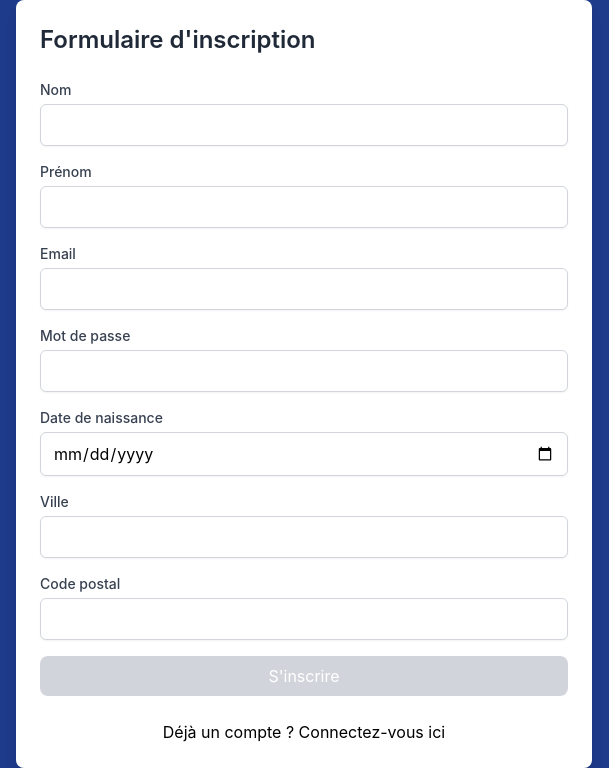
Test: UserForm › should enable submit button when form is complete
Check: the button "S'inscrire" is disabled, box x1=40 y1=656 x2=568 y2=696
Type "Doe" into the field labelled "Nom" at (304, 125), box x1=40 y1=104 x2=568 y2=146
Type "John" into the field labelled "Prénom" at (304, 207), box x1=40 y1=186 x2=568 y2=228
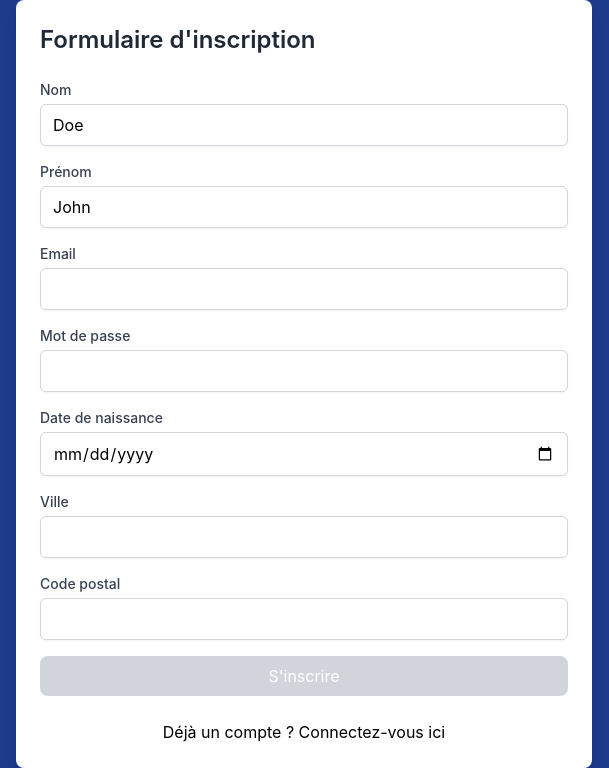
Type "john.doe@example.com" into the field labelled "Email" at (304, 289), box x1=40 y1=268 x2=568 y2=310
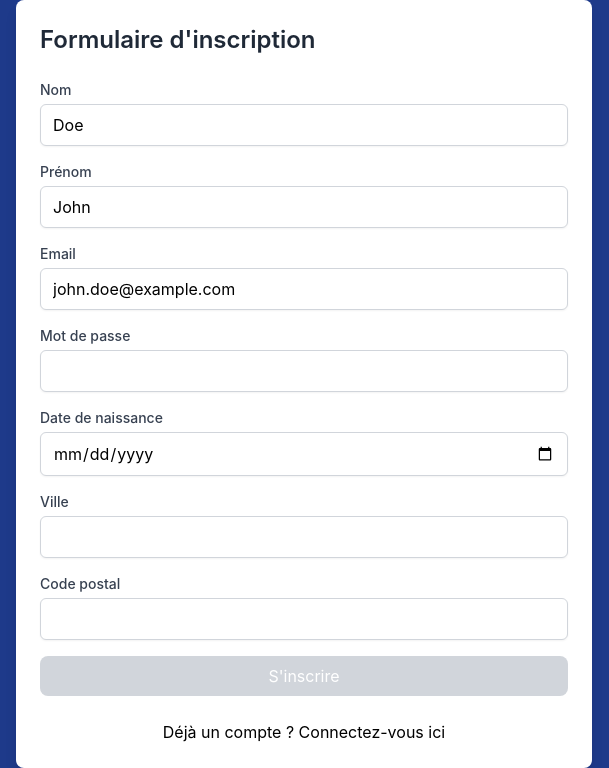
Type "password123" into the password field labelled "Mot de passe" at (304, 371), box x1=40 y1=350 x2=568 y2=392
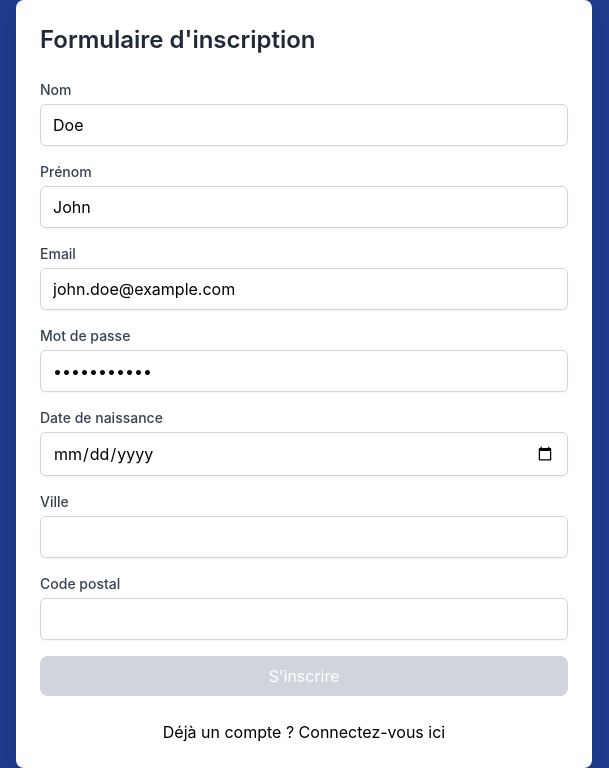
Type "2000-01-01" into the date field labelled "Date de naissance" at (304, 454), box x1=40 y1=432 x2=568 y2=476
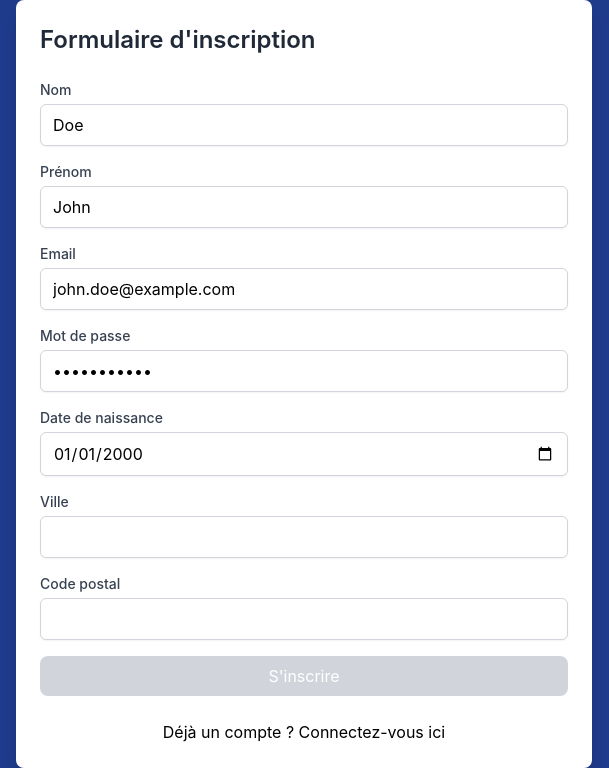
Type "Paris" into the field labelled "Ville" at (304, 537), box x1=40 y1=516 x2=568 y2=558
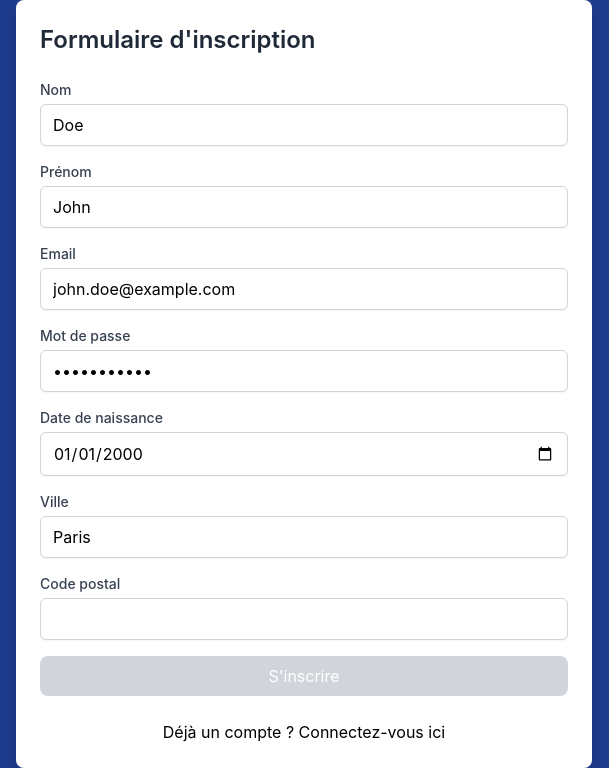
Type "75001" into the field labelled "Code postal" at (304, 619), box x1=40 y1=598 x2=568 y2=640
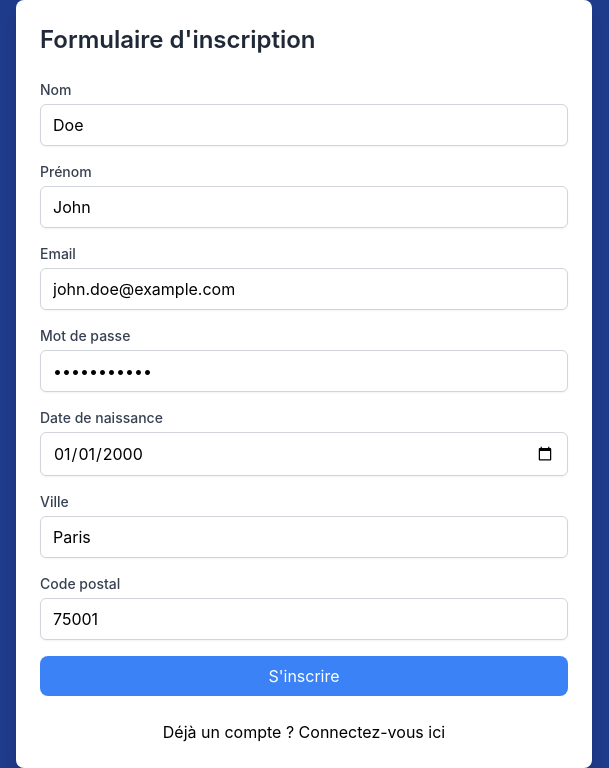
Check: the button "S'inscrire" is enabled, box x1=40 y1=656 x2=568 y2=696
